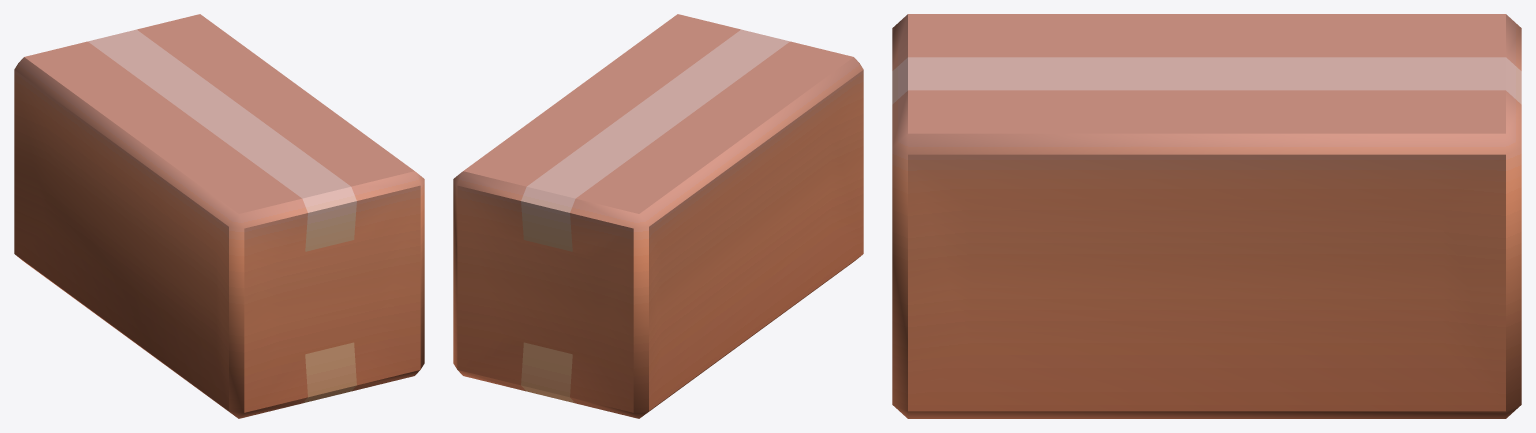
The model's file is box-large.glb.
3 renders of one model, left to right at view 1: azimuth 30°, elevation 25°; view 2: azimuth 150°, elevation 25°; view 3: azimuth 270°, elevation 25°, orthographic. The views are drawn at different scales.
Parts seen in each view (by area): view 1: box-large; view 2: box-large; view 3: box-large.
Part boxes in pixels (x1,y1,x2,y2): box-large: (14, 14, 424, 418); box-large: (453, 14, 863, 418); box-large: (892, 14, 1521, 418).
Size of the model in its own units: 0.25 by 0.25 by 0.5.
Materials: 1 (1 with a texture image).
